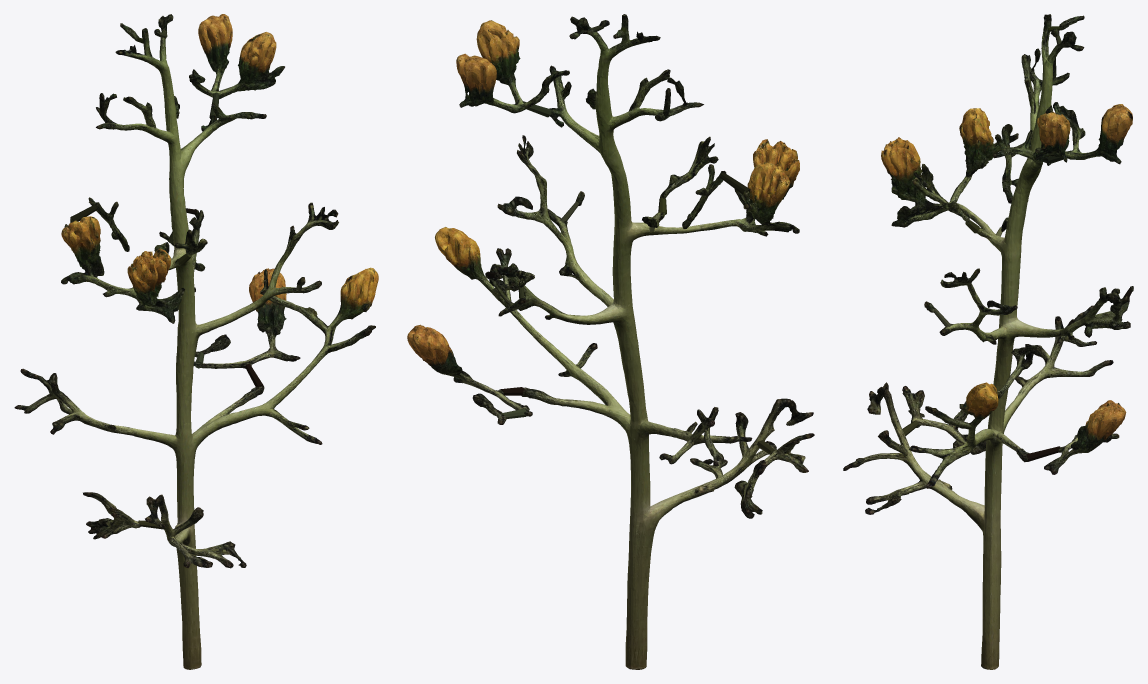
3 renders of one model, left to right at view 1: azimuth 30°, elevation 25°; view 2: azimuth 150°, elevation 25°; view 3: azimuth 270°, elevation 25°, orthographic. The views are drawn at different scales.
Parts seen in each view (by area): view 1: world; view 2: world; view 3: world.
Part boxes in pixels (x1=…): world: x1=14, y1=14, x2=378, y2=669; world: x1=407, y1=14, x2=814, y2=669; world: x1=843, y1=14, x2=1133, y2=669.
Bounding box in the file's own units: 0.5457 × 1 × 0.4102.
Materials: 1 (1 with a texture image).
